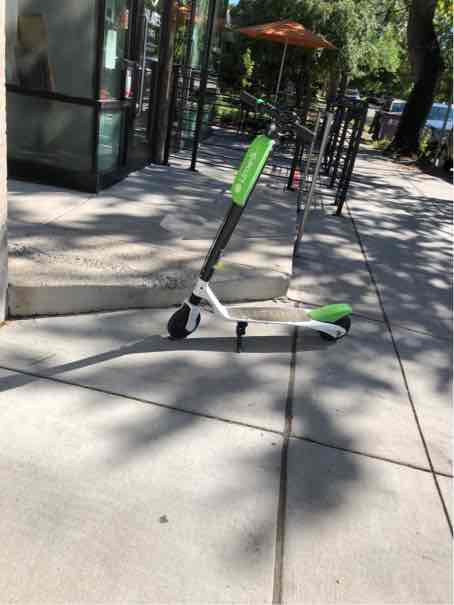scooter: (162, 88, 372, 357)
